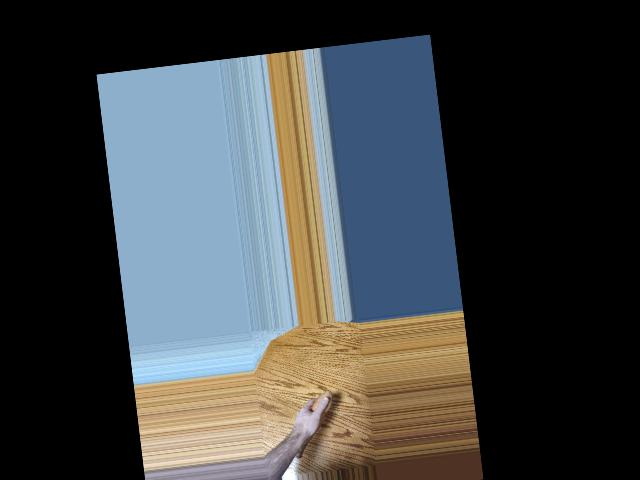sweet_potato: (289, 388, 341, 460)
